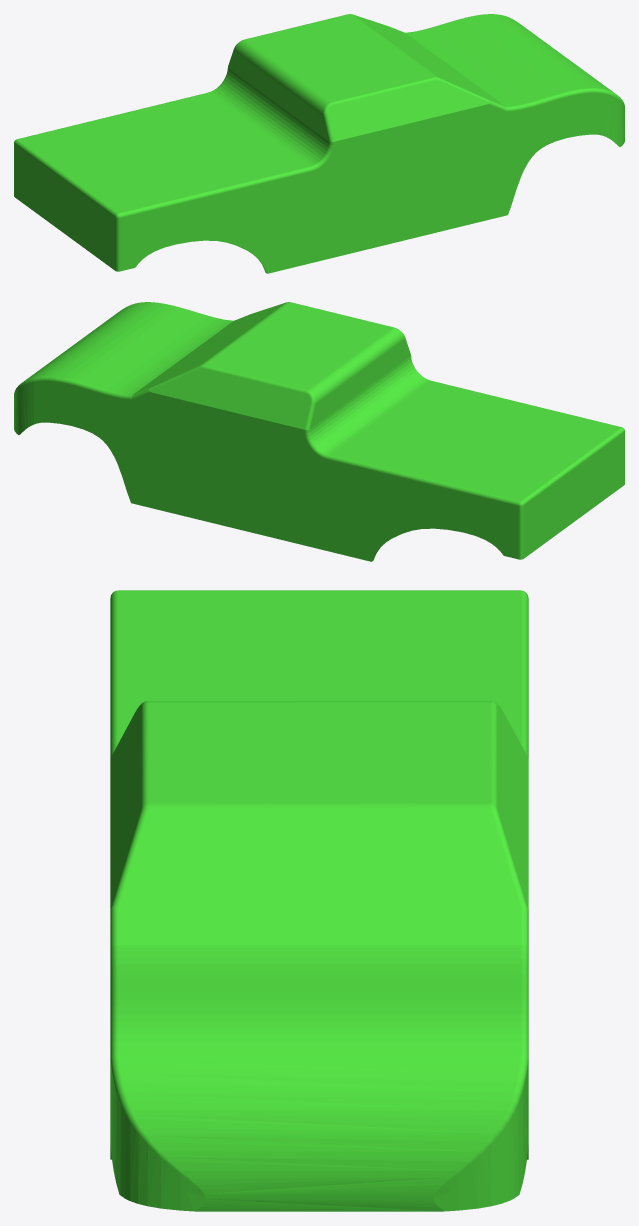
File: body.dae
The picture shows the model from 3 angles, top to bottom: view 1: azimuth 30°, elevation 25°; view 2: azimuth 150°, elevation 25°; view 3: azimuth 270°, elevation 25°; orthographic projection. The views are drawn at different scales.
Parts seen in each view (by area): view 1: Body Shell; view 2: Body Shell; view 3: Body Shell.
Part boxes in pixels (<box>): Body Shell: <box>14,14,624,273</box>; Body Shell: <box>14,302,624,561</box>; Body Shell: <box>110,590,528,1211</box>.
Bounding box in the file's own units: 0.4036 × 0.1397 × 0.1083.
